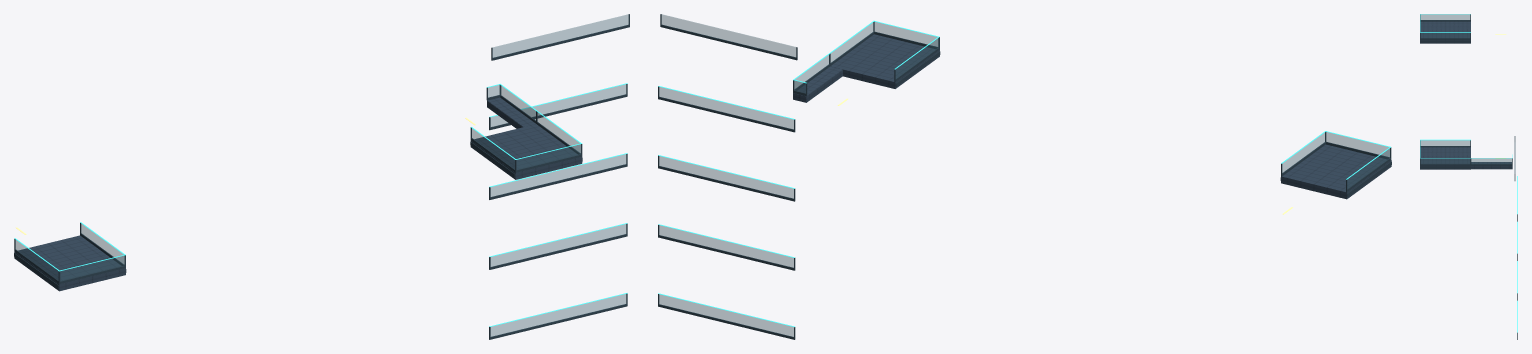
File: v02-detailed-00-07-coffered.glb
The picture shows the model from 3 angles, left to right: view 1: azimuth 30°, elevation 25°; view 2: azimuth 150°, elevation 25°; view 3: azimuth 270°, elevation 25°; orthographic projection. The views are drawn at different scales.
Parts seen in each view (by area): view 1: v02-detailed-00-07-coffered; view 2: v02-detailed-00-07-coffered; view 3: v02-detailed-00-07-coffered.
Part boxes in pixels (box(x1,y1,x2,y2)): v02-detailed-00-07-coffered: box(14, 14, 629, 339); v02-detailed-00-07-coffered: box(658, 14, 1391, 339); v02-detailed-00-07-coffered: box(1420, 14, 1517, 339).
Bounding box in the file's own units: 58.85 × 25.21 × 13.47.
Materials: 5 (1 with a texture image).
